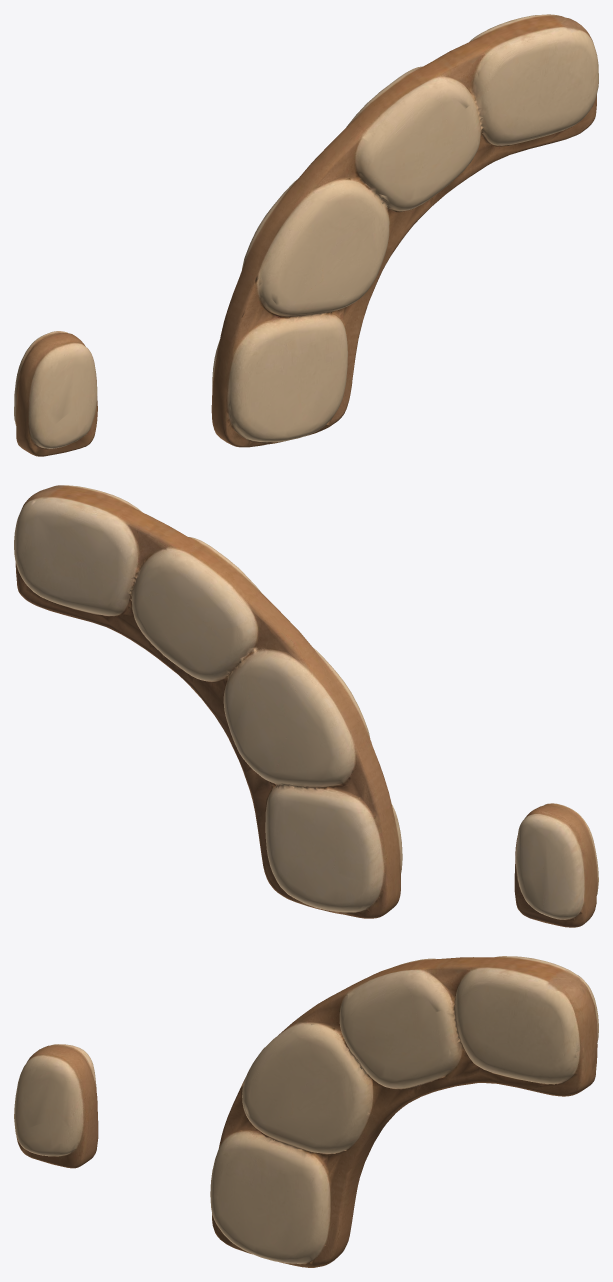
File: road-curve.glb
3 views of the same model, one above another, from view 1: azimuth 30°, elevation 25°; view 2: azimuth 150°, elevation 25°; view 3: azimuth 330°, elevation 25° (orthographic).
Visible parts, largest first — view 1: Mesh_0; view 2: Mesh_0; view 3: Mesh_0.
Boxes of the visible parts, box(x1,y1,x2,y2) form: Mesh_0: box(14, 14, 598, 456); Mesh_0: box(14, 485, 598, 927); Mesh_0: box(14, 956, 598, 1267).
Size of the model in its own units: 2 by 1.18 by 0.1885.
Materials: 1 (1 with a texture image).
